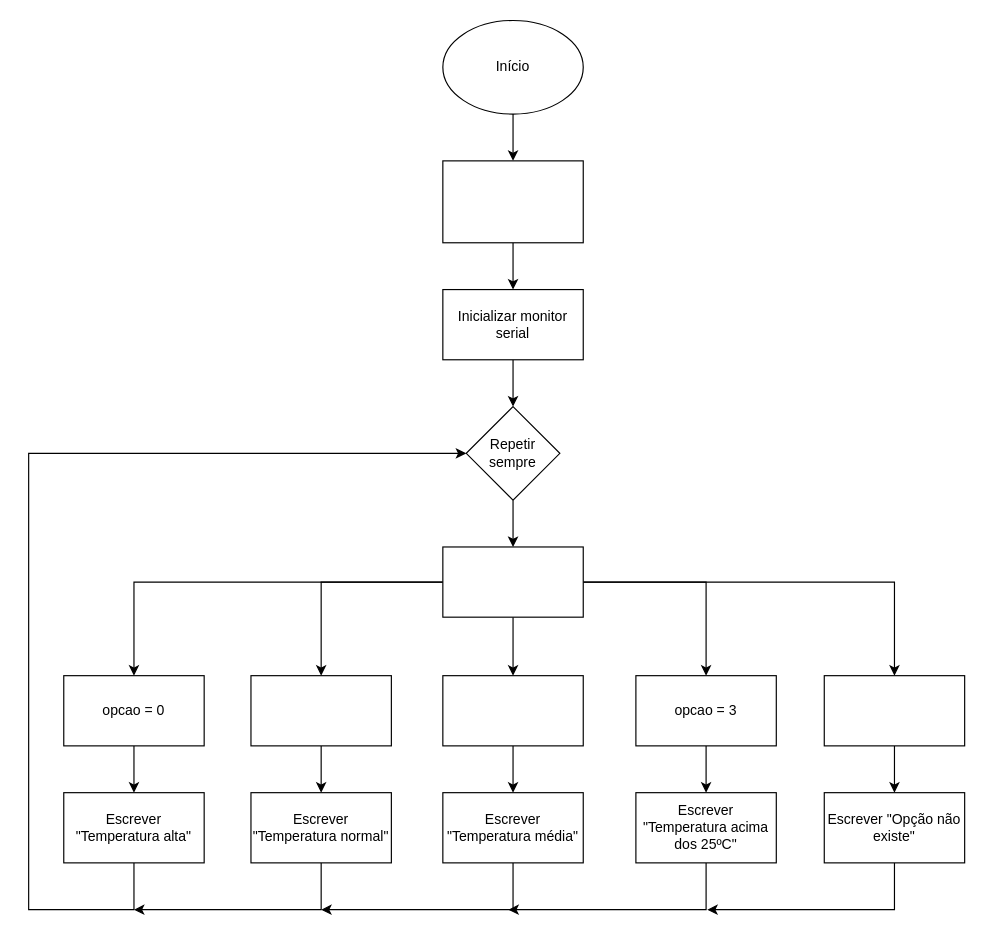
Image size: 985x940. Some labels were removed from this diagram. Each missing label, with the centre of its shape:
Avaliar opcao: [512,581]
Declarar variável opcao = 3 (para escolha do switch case correspondente): [512,201]
default: [894,710]
opcao = 1: [320,710]
opcao = 2: [512,710]
